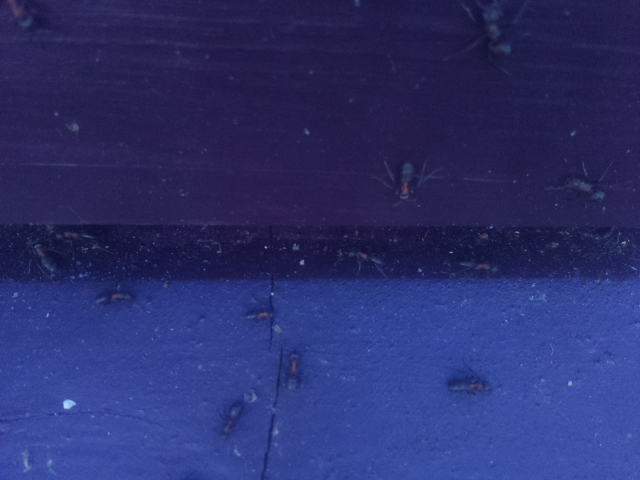ant: (465, 0, 522, 64), (556, 170, 613, 209), (26, 231, 63, 288), (442, 369, 495, 397), (393, 157, 421, 203), (0, 0, 39, 33), (240, 303, 283, 331), (219, 397, 242, 444), (283, 348, 300, 387)
